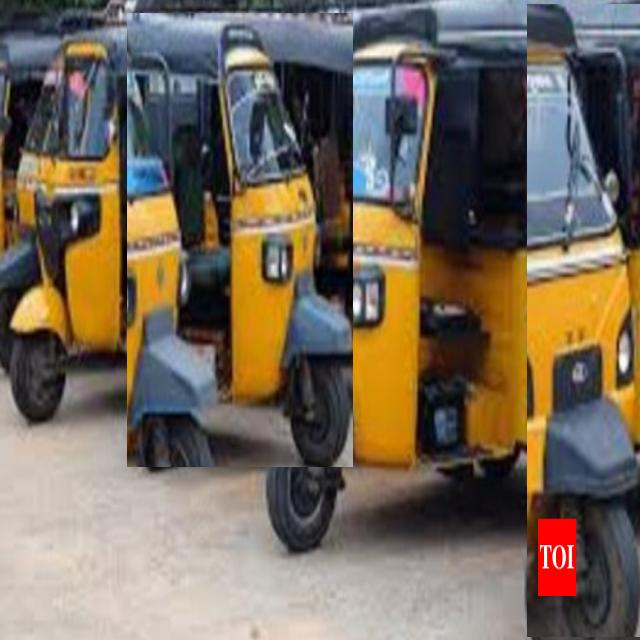autorickshaw: (265, 5, 594, 549), (127, 14, 352, 467), (10, 16, 229, 421), (527, 4, 640, 637)
